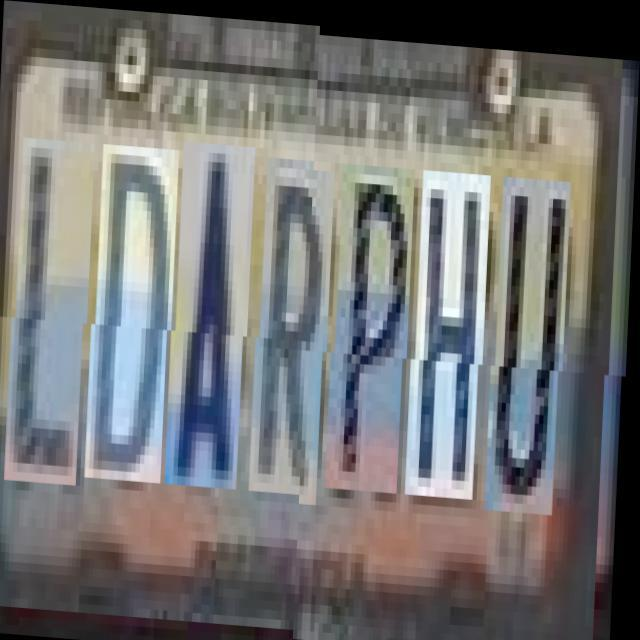A: (174, 148, 256, 494)
D: (92, 152, 180, 489)
H: (413, 163, 492, 492)
L: (13, 146, 96, 493)
P: (334, 158, 416, 487)
R: (257, 162, 336, 499)
U: (493, 168, 572, 506)
